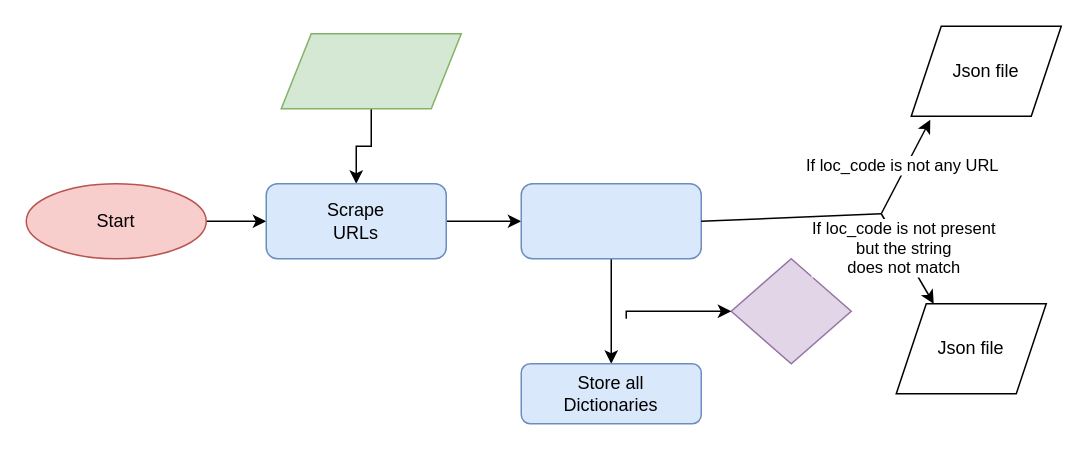
Some shapes in this 1088 by 450 pixel diagram are drawn without their labels. The centre of each missing label's shape, as x and y in pixels:
Comparing: (790,310)
Creates Dictonary: (610,220)
URLs: (370,70)
